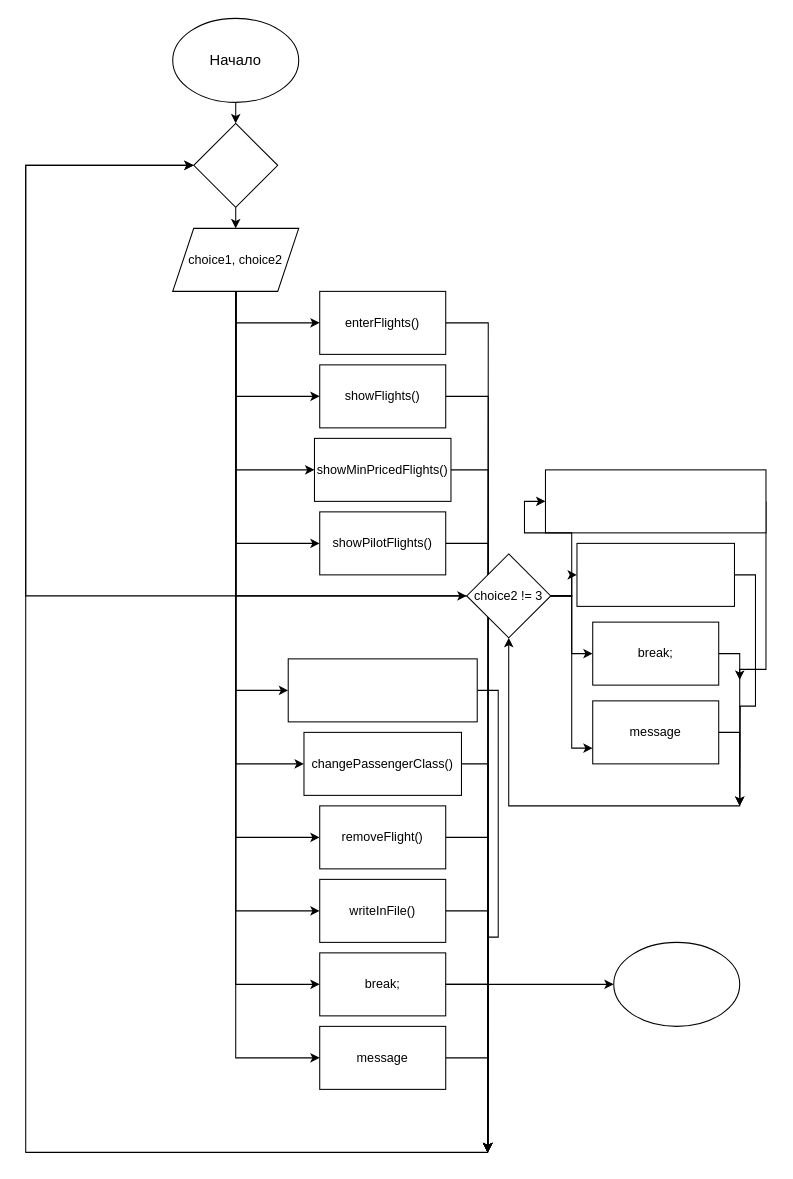
Image size: 793x1179. Some labels were removed from this diagram. Here are the shapes that lost their labels. From the top down, the centre of each, then its label:
At point (235, 164): "choice1 != 10".
At point (655, 501): "showSortedAscendingPriceAndClass()".
At point (655, 574): "showDateAndPilotFlights()".
At point (382, 690): "calculateCurrentFlightPrice()".
At point (676, 983): "Край".
